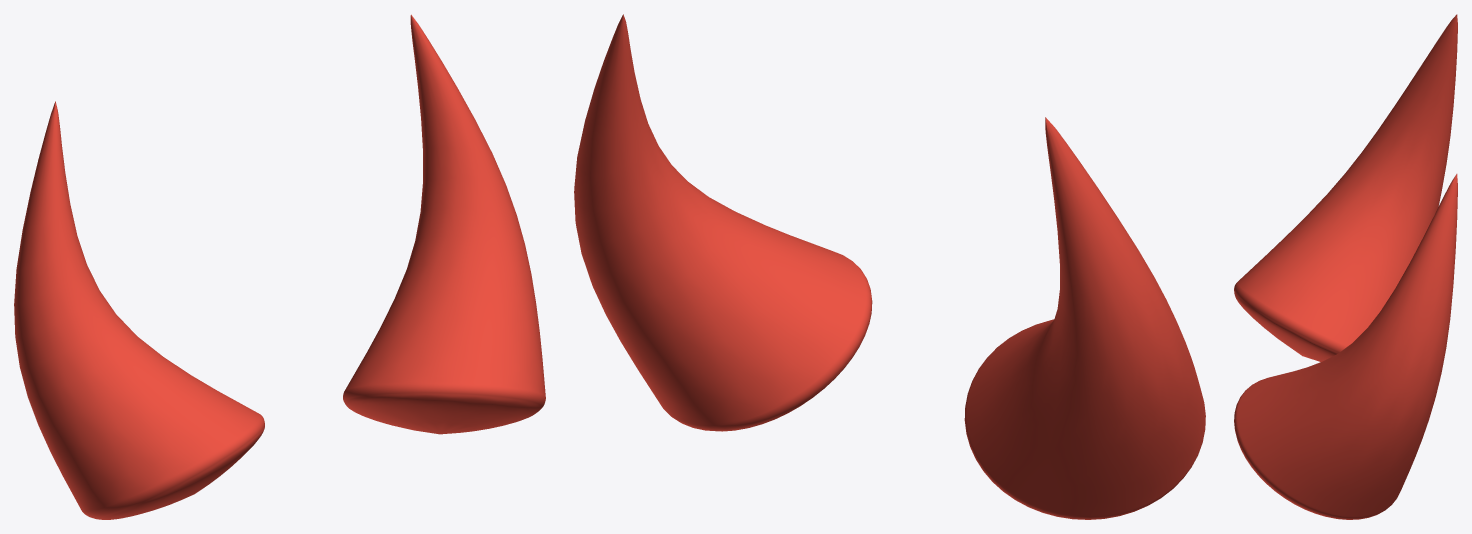
The model's file is Hörner.fbx.
3 renders of one model, left to right at view 1: azimuth 30°, elevation 25°; view 2: azimuth 150°, elevation 25°; view 3: azimuth 270°, elevation 25°, orthographic. The views are drawn at different scales.
Visible parts, largest first — view 1: Horn; view 2: Horn; view 3: Horn.
Boxes of the visible parts, x1=… form: Horn: x1=14, y1=14, x2=545, y2=519; Horn: x1=574, y1=14, x2=1205, y2=519; Horn: x1=1234, y1=14, x2=1457, y2=519.
Bounding box in the file's own units: 181 × 130 × 77.3.
